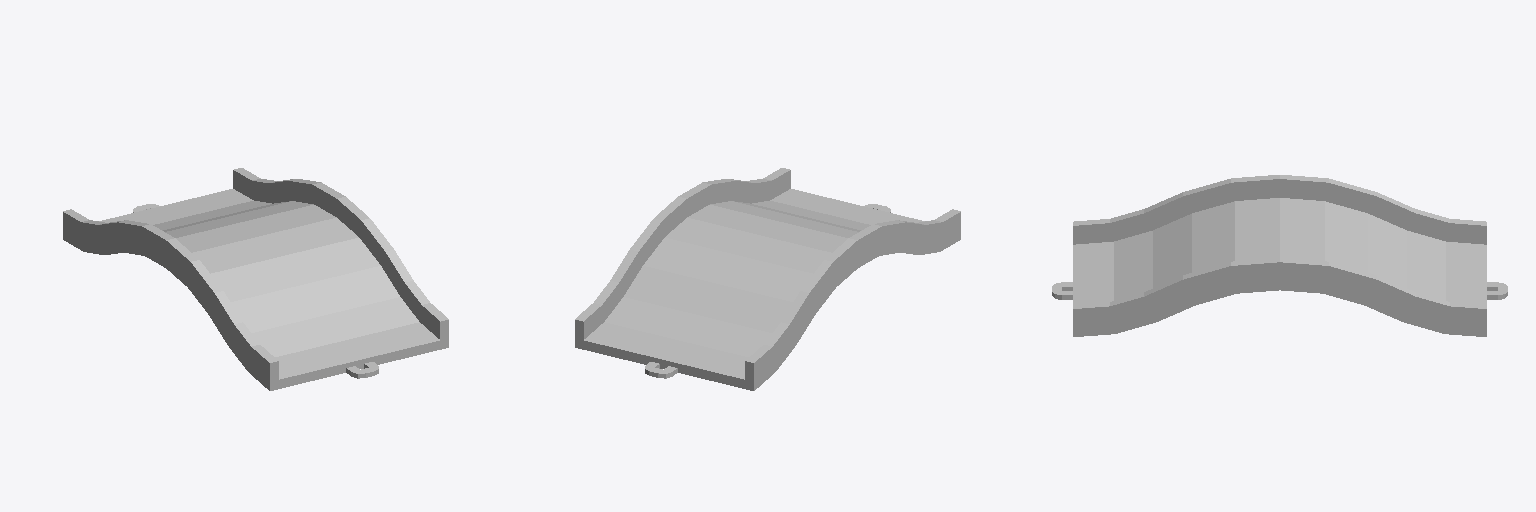
Rendered from track-road-wide-straight-bump-up.obj.
3 views of the same model, side by side, from view 1: azimuth 30°, elevation 25°; view 2: azimuth 150°, elevation 25°; view 3: azimuth 270°, elevation 25° (orthographic).
Parts seen in each view (by area): view 1: track-road-wide-straight-bump-up; view 2: track-road-wide-straight-bump-up; view 3: track-road-wide-straight-bump-up.
Boxes of the visible parts, x1,y1,x2,y2 form: track-road-wide-straight-bump-up: [63, 168, 448, 390]; track-road-wide-straight-bump-up: [575, 168, 960, 390]; track-road-wide-straight-bump-up: [1052, 175, 1507, 336].
Bounding box in the file's own units: 2 × 0.8 × 4.4.